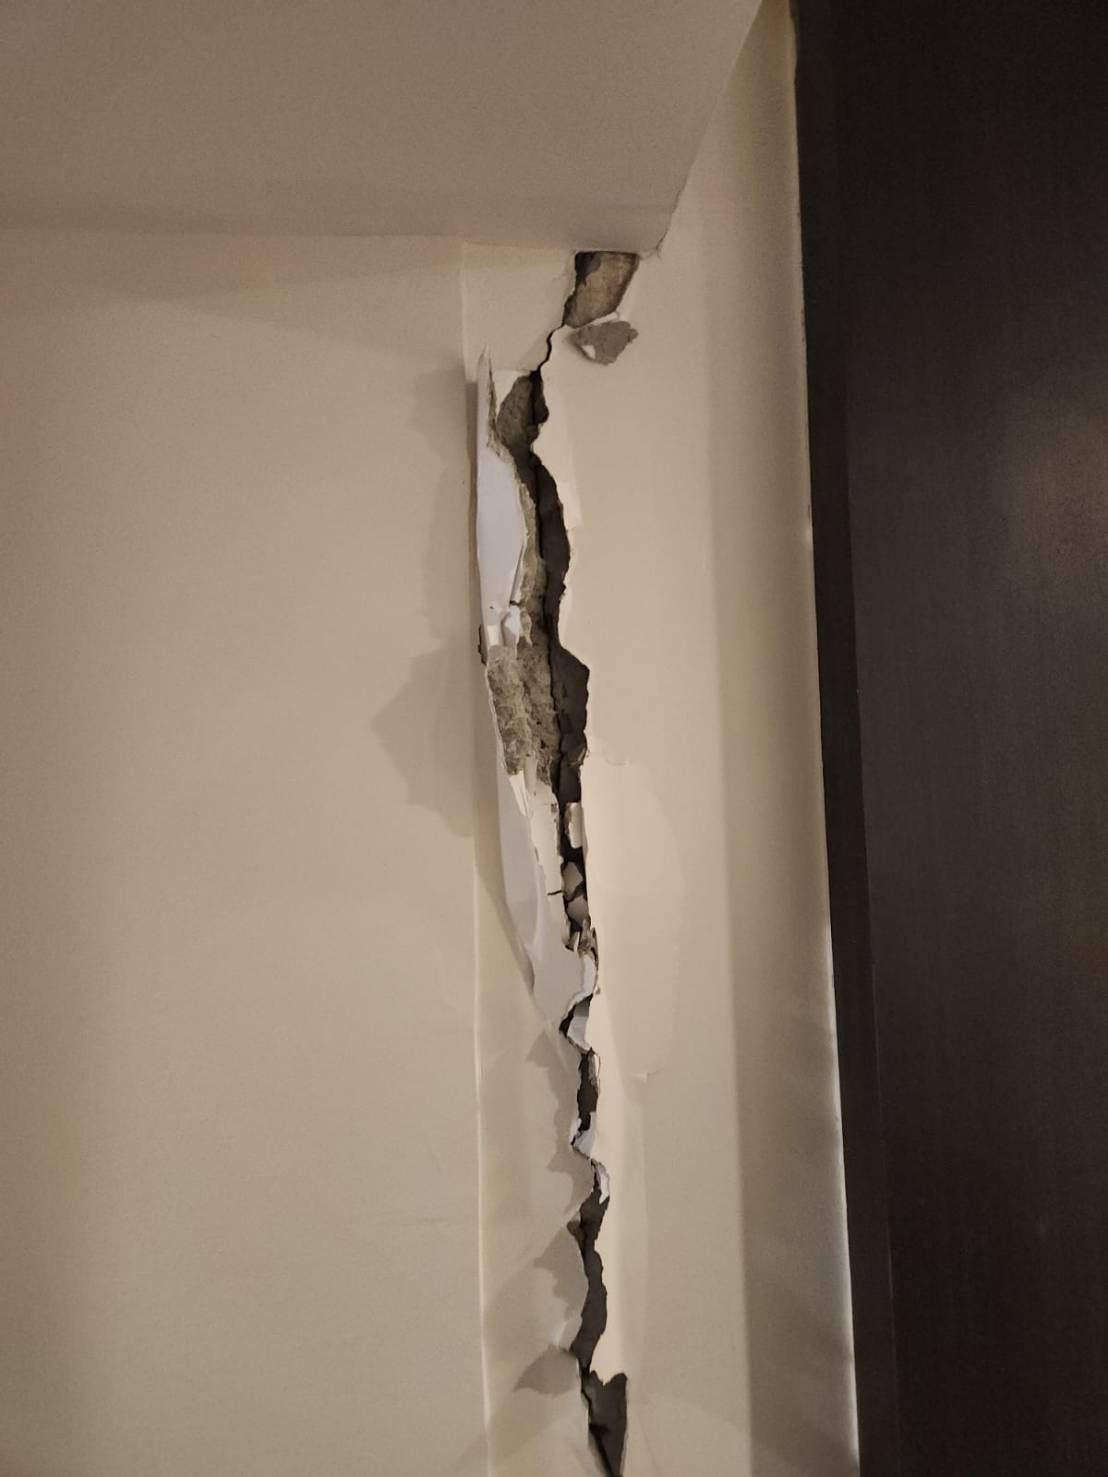High: (442, 232, 701, 1472)
